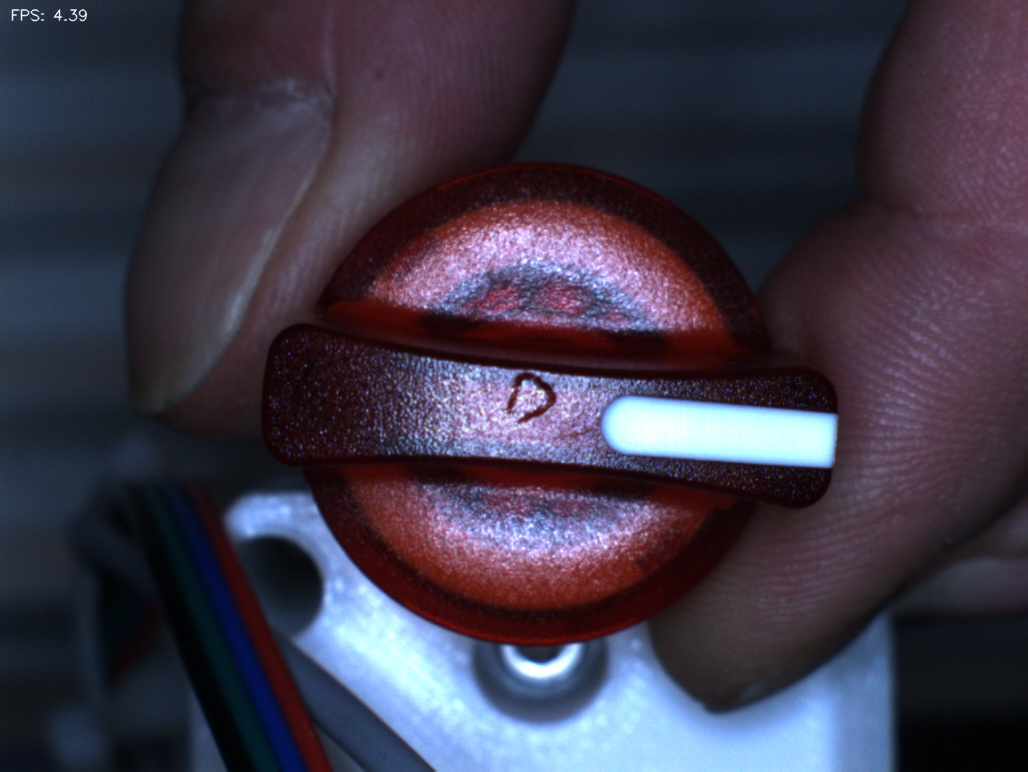Choc: (485, 352, 570, 437)
